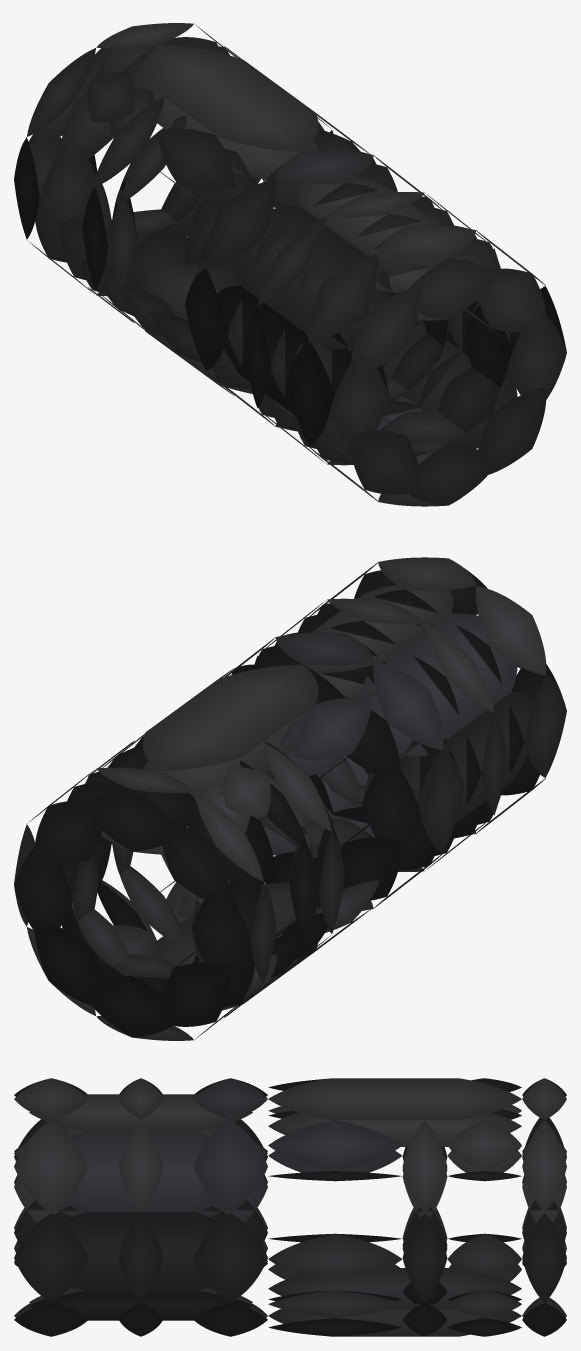
File: ak47_muzzle_brake.fbx
3 renders of one model, top to bottom at view 1: azimuth 30°, elevation 25°; view 2: azimuth 150°, elevation 25°; view 3: azimuth 270°, elevation 25°, orthographic. The views are drawn at different scales.
Parts seen in each view (by area): view 1: octagon_34, octagon_2, octagon_5, octagon_3, octagon_39, octagon, octagon_1, octagon_7, octagon_29, octagon_26, octagon_4, octagon_33 (+29 smaller); view 2: octagon_34, octagon_26, octagon_29, octagon_21, octagon_27, octagon_24, octagon_39, octagon_18, octagon_25, octagon_31, octagon_42, octagon_28 (+31 smaller); view 3: octagon_34, octagon_43, octagon_44, octagon_32, octagon_49, octagon_6, octagon_22, octagon_23, octagon_7, octagon_40, octagon_35, octagon_54 (+22 smaller).
Part boxes in pixels (left/top/right/bottom): octagon_34: left=143, top=45, right=318, bottom=179; octagon_2: left=308, top=254, right=420, bottom=375; octagon_5: left=287, top=333, right=389, bottom=453; octagon_3: left=367, top=225, right=497, bottom=320; octagon_39: left=234, top=206, right=391, bottom=349; octagon: left=437, top=367, right=546, bottom=476; octagon_1: left=378, top=411, right=496, bottom=506; octagon_7: left=465, top=286, right=566, bottom=410; octagon_29: left=14, top=128, right=97, bottom=239; octagon_26: left=27, top=48, right=112, bottom=162; octagon_4: left=308, top=411, right=420, bottom=501; octagon_33: left=152, top=128, right=253, bottom=213; octagon_34: left=143, top=664, right=318, bottom=798; octagon_26: left=158, top=792, right=263, bottom=907; octagon_29: left=191, top=869, right=276, bottom=986; octagon_21: left=362, top=740, right=464, bottom=854; octagon_27: left=83, top=767, right=200, bottom=854; octagon_24: left=27, top=895, right=136, bottom=1015; octagon_39: left=360, top=613, right=517, bottom=756; octagon_18: left=331, top=661, right=443, bottom=780; octagon_25: left=83, top=954, right=193, bottom=1040; octagon_31: left=14, top=824, right=98, bottom=942; octagon_42: left=400, top=692, right=534, bottom=822; octagon_28: left=153, top=946, right=262, bottom=1039; octagon_34: left=268, top=1078, right=521, bottom=1146; octagon_43: left=57, top=1131, right=224, bottom=1217; octagon_44: left=54, top=1206, right=227, bottom=1290; octagon_32: left=268, top=1268, right=521, bottom=1336; octagon_49: left=268, top=1120, right=402, bottom=1181; octagon_6: left=14, top=1120, right=88, bottom=1222; octagon_22: left=193, top=1120, right=267, bottom=1222; octagon_23: left=193, top=1200, right=267, bottom=1302; octagon_7: left=14, top=1200, right=88, bottom=1302; octagon_40: left=29, top=1094, right=252, bottom=1136; octagon_35: left=268, top=1233, right=402, bottom=1279; octagon_54: left=268, top=1290, right=402, bottom=1336.
Bounding box in the file's own units: 6.25 × 6.25 × 14.45.
Materials: 1 (1 with a texture image).
